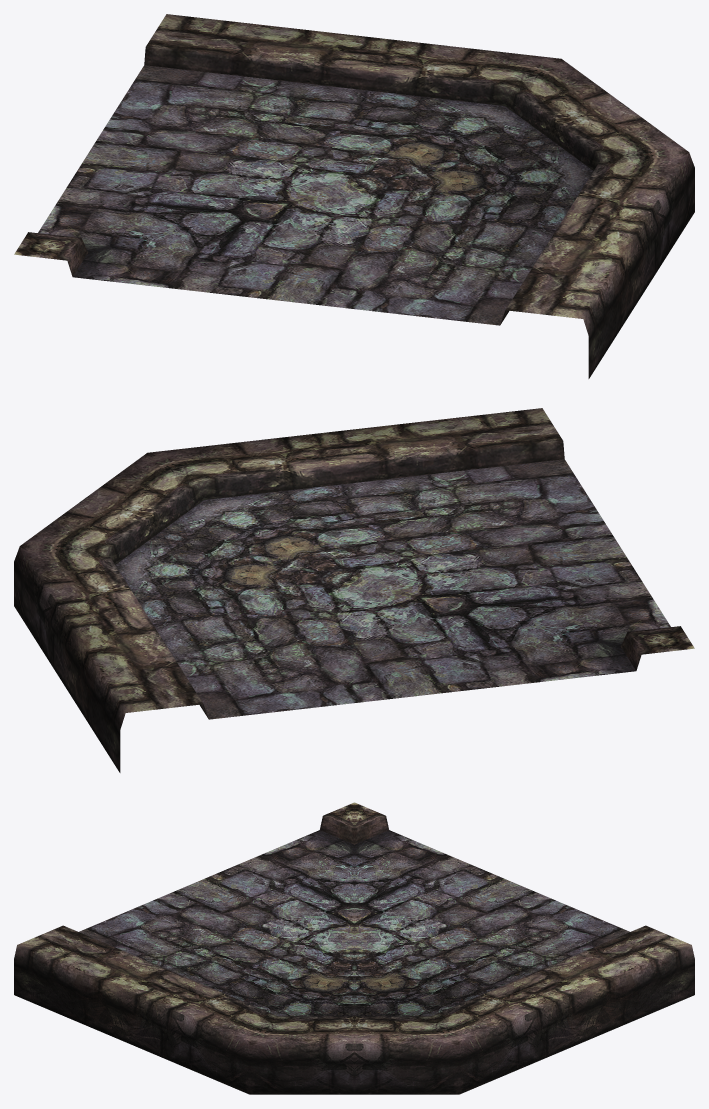
The model's file is RoadCorner.FBX.
3 views of the same model, one above another, from view 1: azimuth 30°, elevation 25°; view 2: azimuth 150°, elevation 25°; view 3: azimuth 270°, elevation 25° (orthographic). The views are drawn at different scales.
Visible parts, largest first — view 1: [bricks]es; view 2: [bricks]es; view 3: [bricks]es.
Boxes of the visible parts, x1,y1,x2,y2 form: [bricks]es: (14,14,694,378); [bricks]es: (14,408,694,772); [bricks]es: (14,802,694,1094).
Bounding box in the file's own units: 162 × 15.17 × 192.
